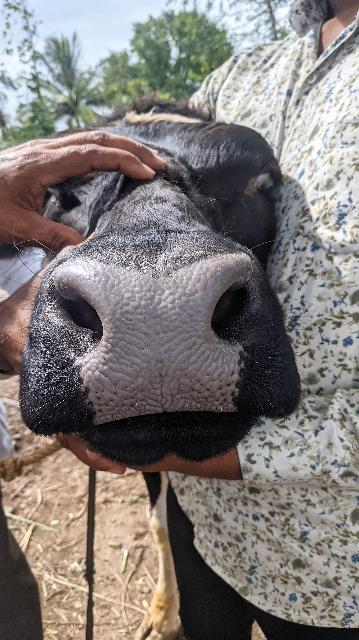Muzzle: (88, 263, 223, 403)
